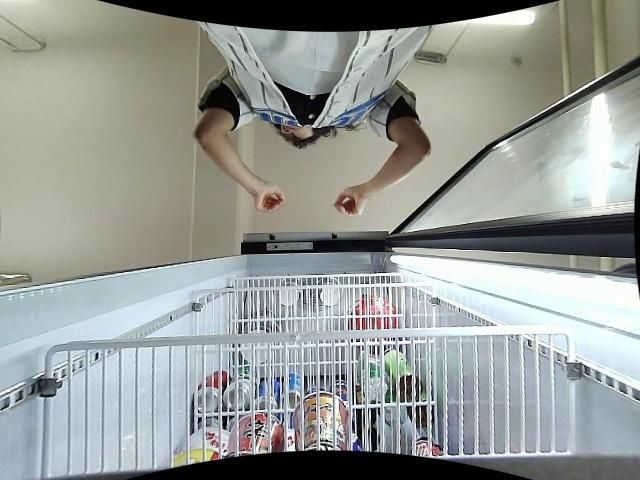00_hand: (331, 183, 368, 218), (252, 178, 288, 213)
